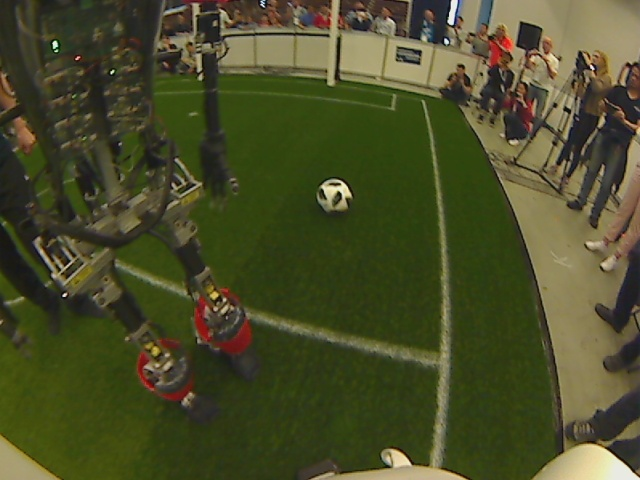ball: (316, 178, 351, 212)
